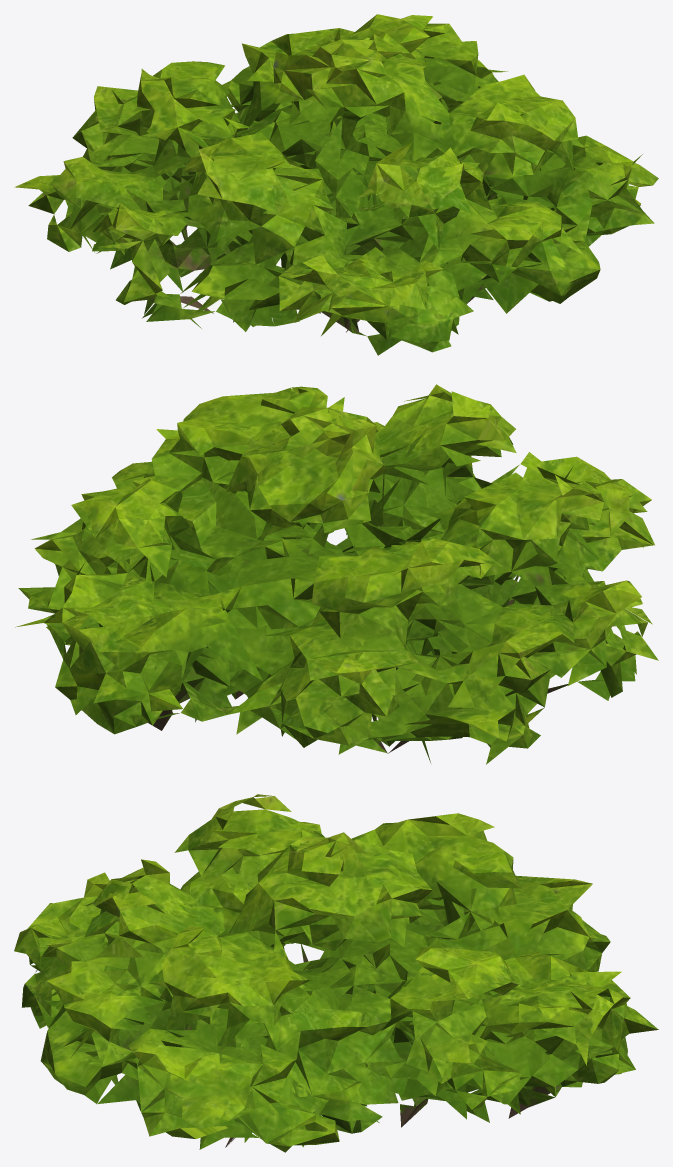
File: A06_Shrub.fbx
The picture shows the model from 3 angles, top to bottom: view 1: azimuth 30°, elevation 25°; view 2: azimuth 150°, elevation 25°; view 3: azimuth 270°, elevation 25°; orthographic projection. The views are drawn at different scales.
Parts seen in each view (by area): view 1: Shrub; view 2: Shrub; view 3: Shrub.
Part boxes in pixels (left/top/right/bottom): Shrub: left=14, top=14, right=658, bottom=355; Shrub: left=15, top=384, right=658, bottom=764; Shrub: left=14, top=794, right=658, bottom=1152.
Bounding box in the file's own units: 175 × 74.09 × 178.
Materials: 1 (1 with a texture image).
